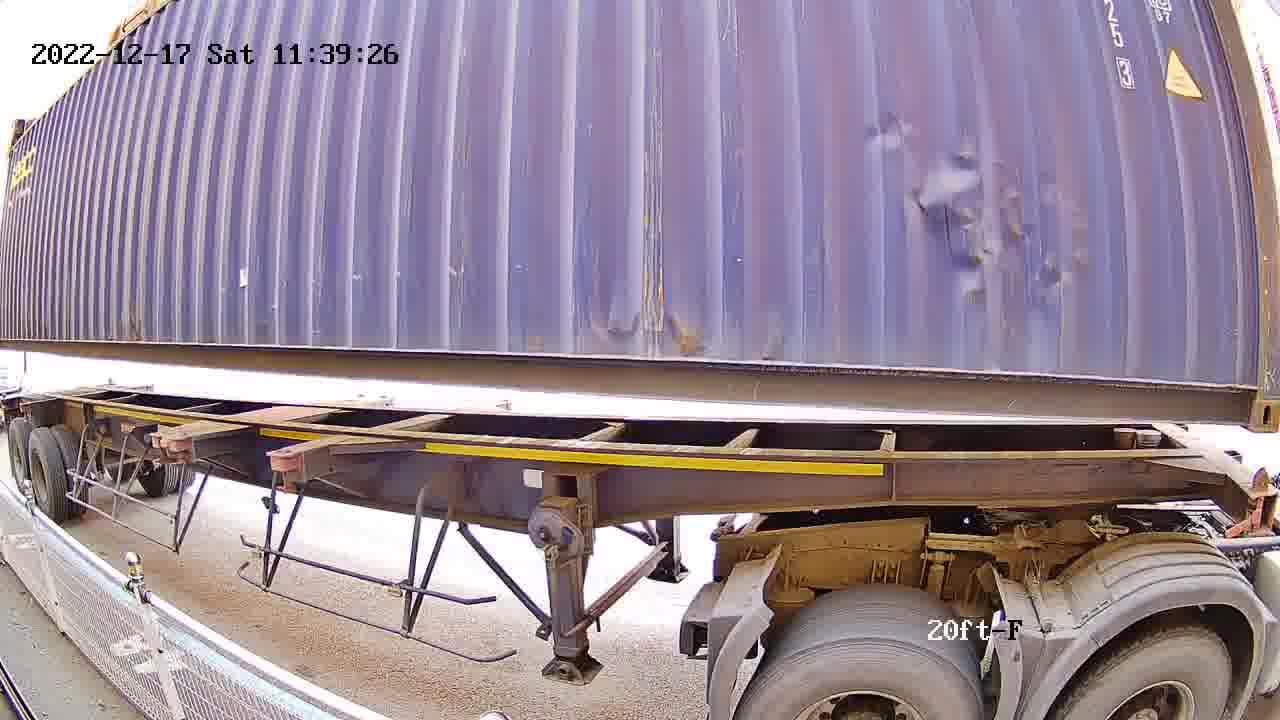Cone: (1239, 462, 1278, 536)
Hole_R: (1218, 362, 1279, 435)
Tire: (739, 636, 982, 719), (1066, 634, 1231, 718), (29, 436, 56, 513), (8, 425, 29, 484)
